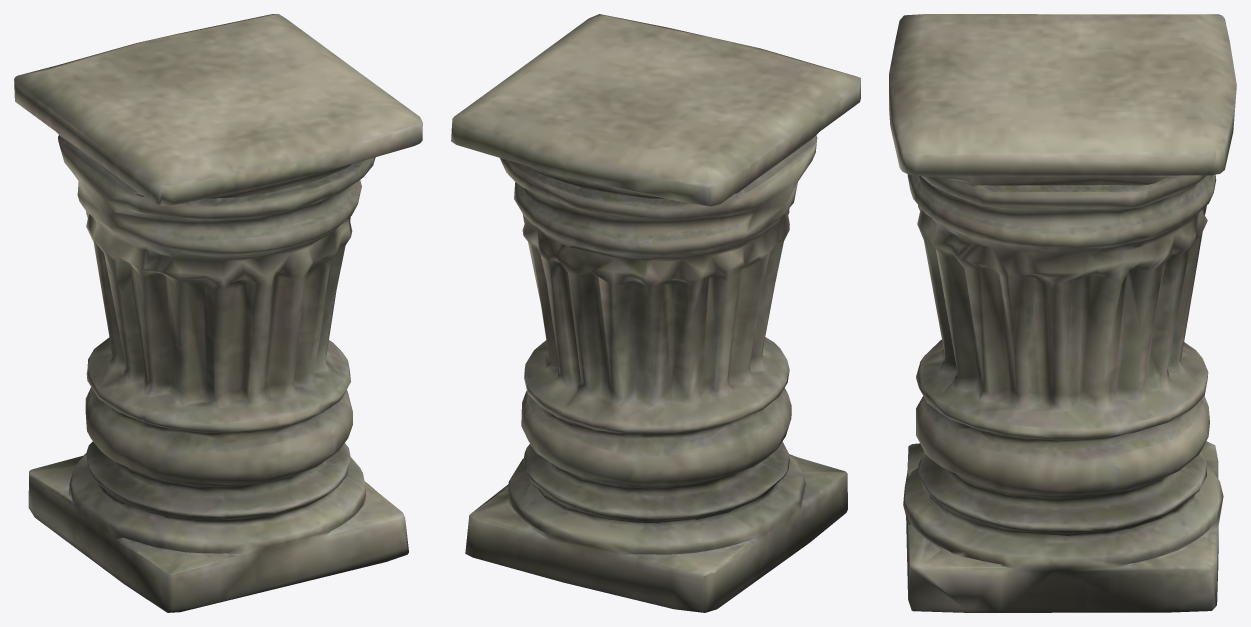
File: chipped-limestone-balustrade-v001.glb
3 views of the same model, side by side, from view 1: azimuth 30°, elevation 25°; view 2: azimuth 150°, elevation 25°; view 3: azimuth 270°, elevation 25° (orthographic). The views are drawn at different scales.
Parts seen in each view (by area): view 1: chipped-limestone-balustrade; view 2: chipped-limestone-balustrade; view 3: chipped-limestone-balustrade.
Part boxes in pixels (<box>): chipped-limestone-balustrade: <box>14,14,422,612</box>; chipped-limestone-balustrade: <box>451,14,860,612</box>; chipped-limestone-balustrade: <box>889,14,1236,612</box>.
Bounding box in the file's own units: 0.6249 × 0.9793 × 0.6452.
Materials: 1 (1 with a texture image).
